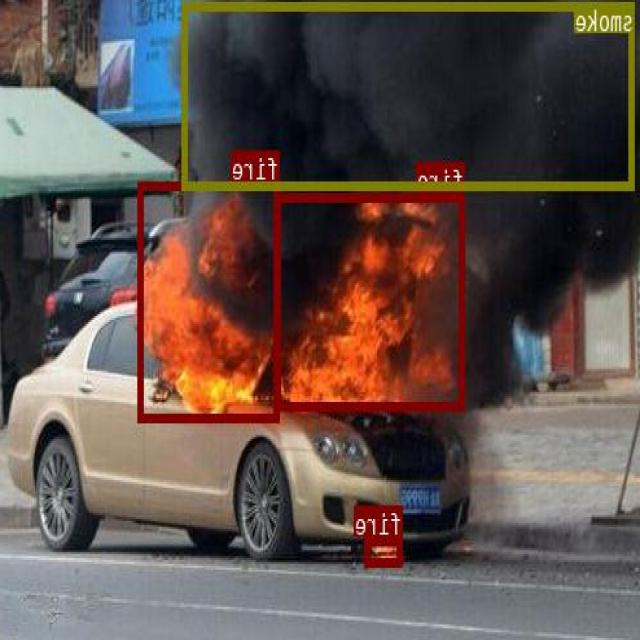fire: (276, 192, 466, 410), (139, 181, 281, 421), (366, 536, 404, 564)
smoke: (184, 2, 636, 188)
